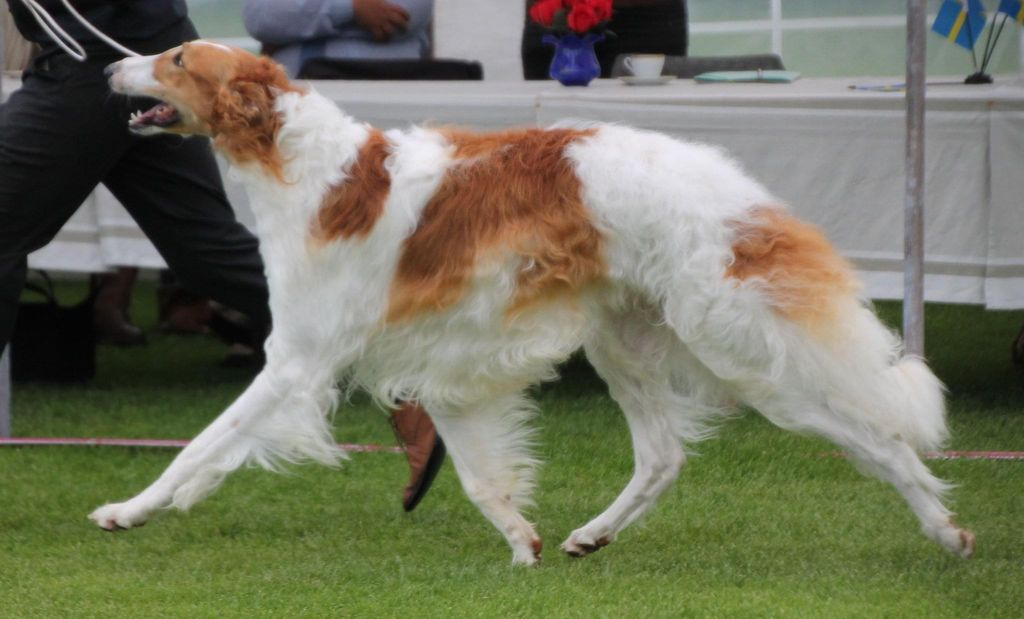borzoi: (84, 43, 983, 561)
